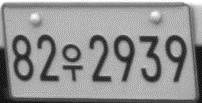2: (88, 33, 112, 82), (36, 33, 59, 82)
3: (139, 35, 161, 82)
8: (10, 33, 34, 81)
9: (112, 33, 135, 82), (164, 34, 187, 82)
우: (61, 43, 83, 82)
